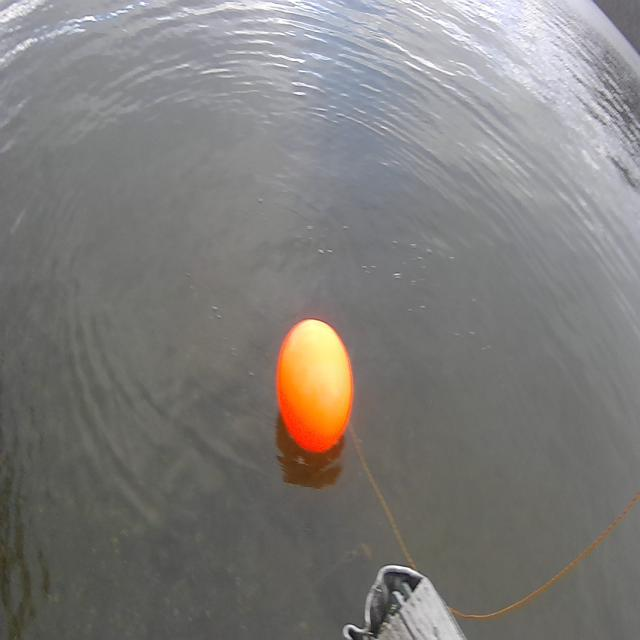Buoy: (269, 302, 361, 472)
